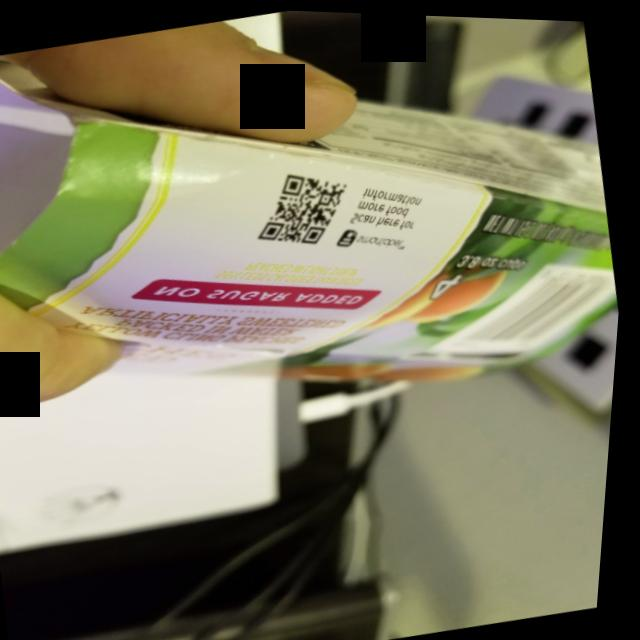QR_CODE: (233, 151, 377, 266)
